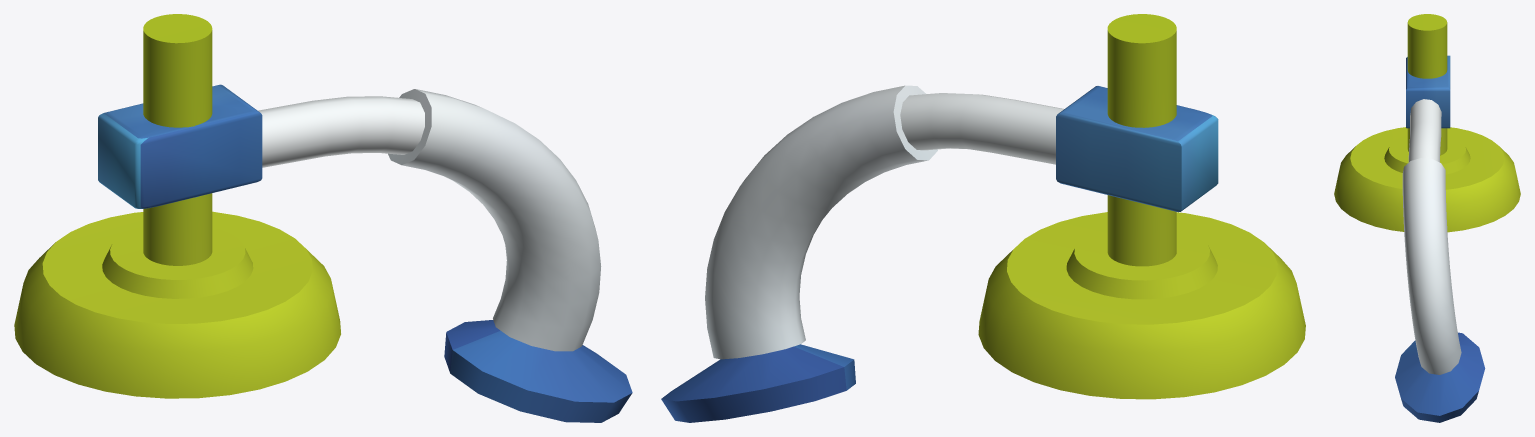
File: engel.fbx
3 renders of one model, left to right at view 1: azimuth 30°, elevation 25°; view 2: azimuth 150°, elevation 25°; view 3: azimuth 270°, elevation 25°, orthographic. The views are drawn at different scales.
Parts seen in each view (by area): view 1: engel; view 2: engel; view 3: engel.
Boxes of the visible parts, <box> form: engel: <box>14,14,632,422</box>; engel: <box>661,14,1305,422</box>; engel: <box>1334,14,1520,422</box>.
Bounding box in the file's own units: 689 × 532 × 325.
